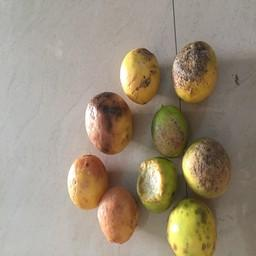Bad_lime: (172, 36, 221, 104), (86, 88, 134, 154), (183, 137, 232, 198), (167, 202, 219, 255), (121, 47, 163, 103), (68, 152, 107, 212), (99, 186, 137, 245), (149, 106, 189, 156)
